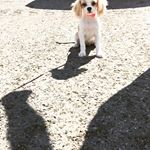puppy: (67, 1, 110, 60)
